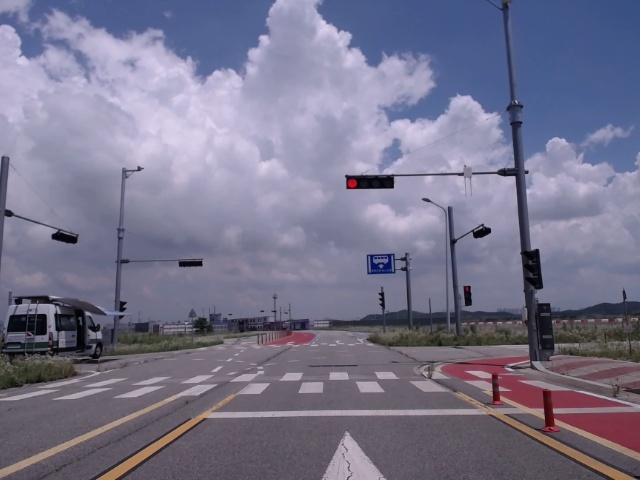red_4: (346, 177, 394, 190)
